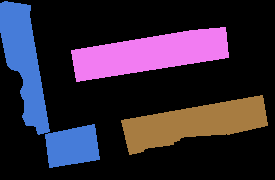parkingspot: (121, 95, 267, 154), (71, 27, 228, 81), (0, 1, 49, 134), (45, 124, 99, 167)
